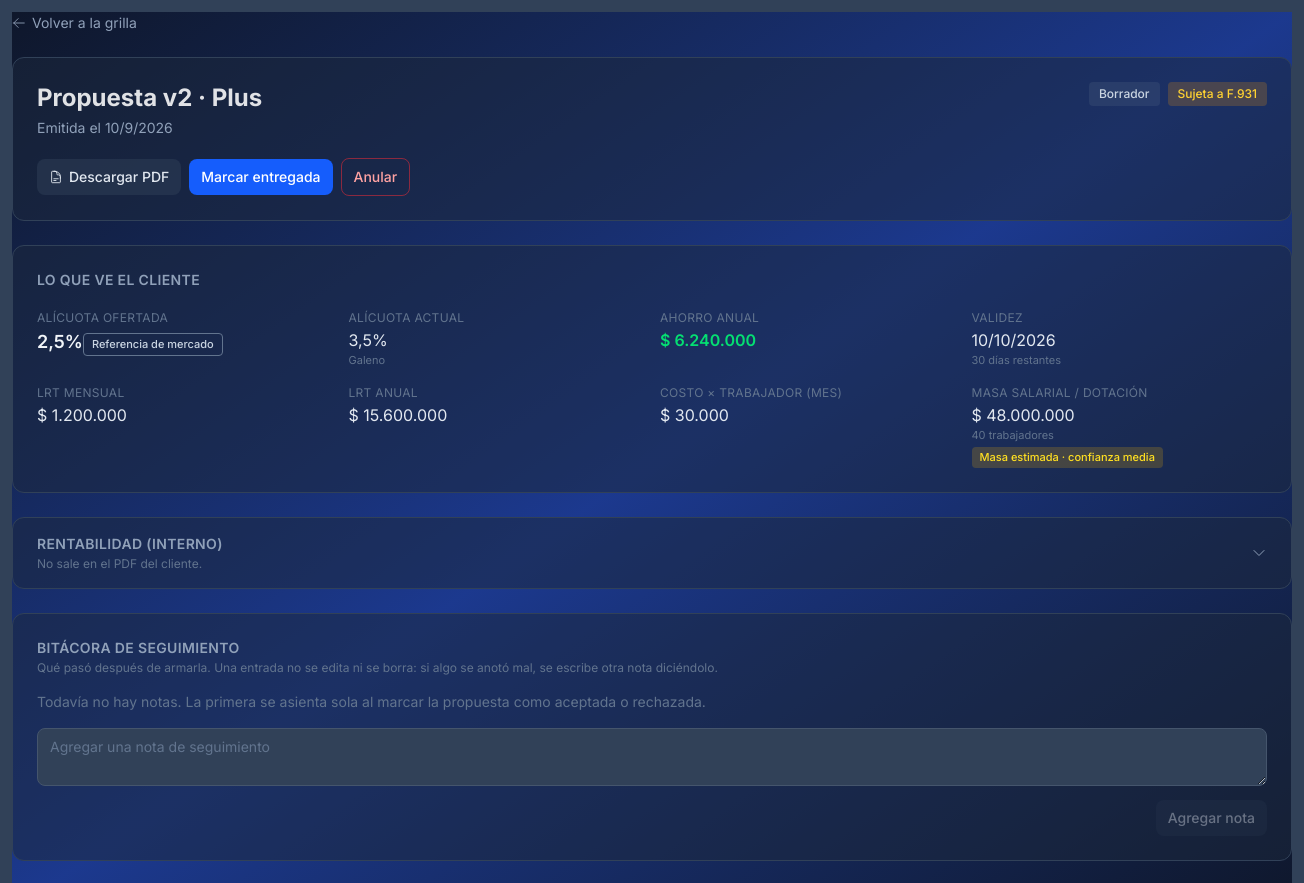
ArtPropuestaDetalle › la rentabilidad arranca COLAPSADA y se abre a pedido
This screenshot has width=1304, height=883.
expect the text "Comisión neta" is not shown: met
expect the text "Win" is not shown: met
Click the heading "Rentabilidad (interno)": (130, 544) [37,534,223,554]
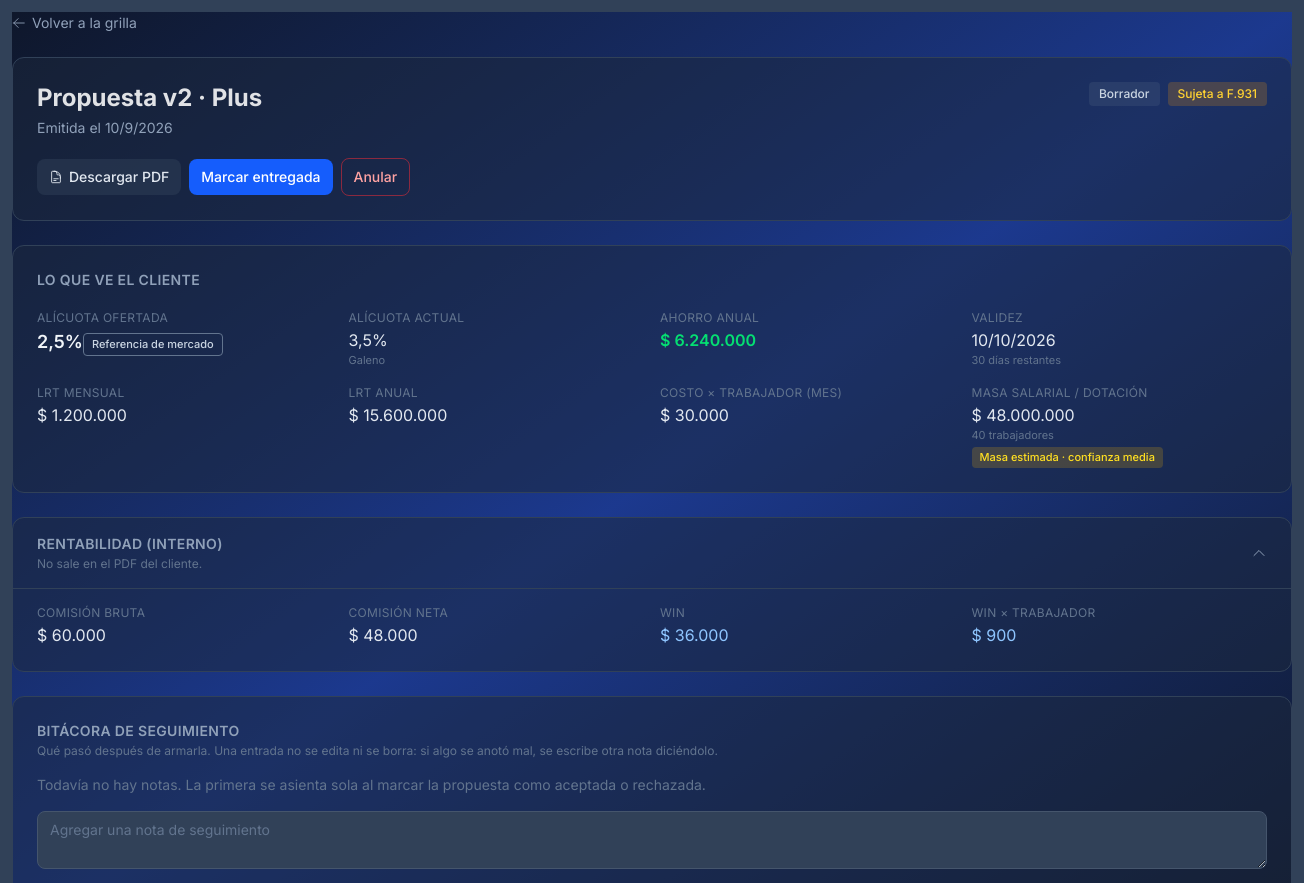
expect the text "Comisión neta" is shown: met, box [348,604,448,620]
expect the text "Win" is shown: met, box [660,604,685,620]
expect the text "Win × trabajador" is shown: met, box [972,604,1095,620]
